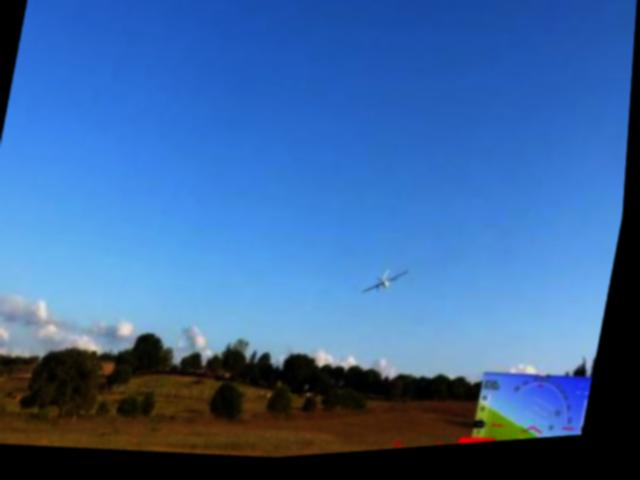uav: (366, 268, 415, 306)
